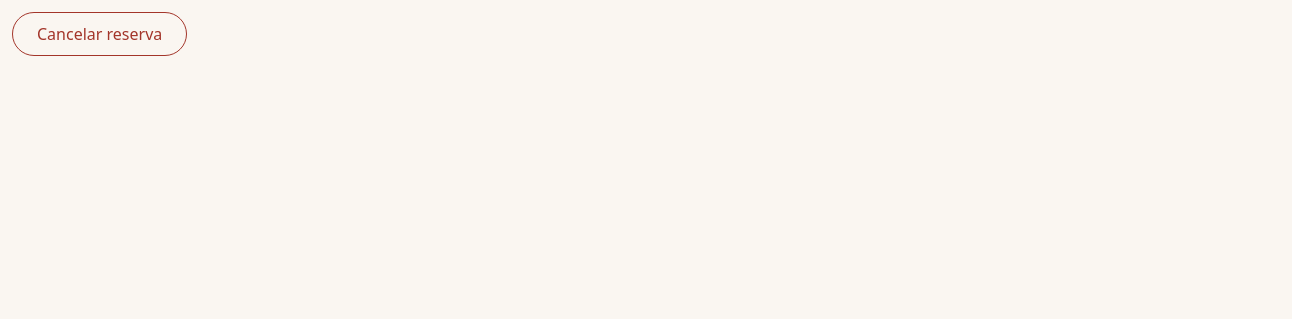
Test: CancelarReserva › al pulsarlo pide el motivo y no deja confirmar sin él
This screenshot has width=1292, height=319.
Click the button "Cancelar reserva".
click(100, 34)  # box [12,12,187,56]
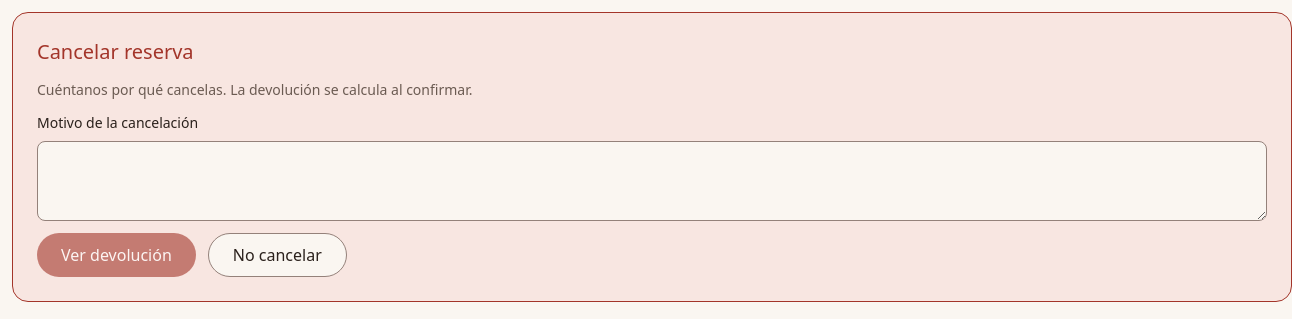
Now the button "Ver devolución" is disabled, box [37,233,196,277]
